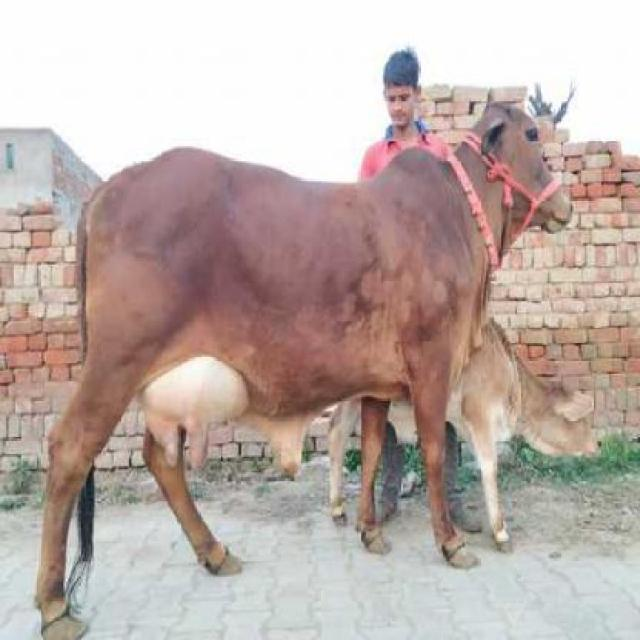Cow: (28, 97, 570, 638)
